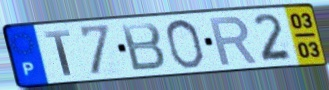2: (254, 11, 295, 64)
7: (79, 23, 114, 78)
B: (119, 21, 168, 73)
O: (163, 17, 206, 71)
R: (206, 14, 259, 67)
T: (42, 28, 74, 77)
